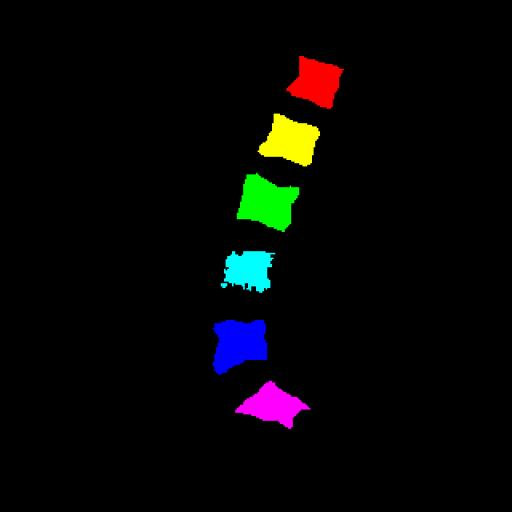L1: (287, 56, 343, 108)
L2: (258, 113, 320, 166)
L3: (237, 173, 299, 232)
L4: (221, 251, 275, 293)
L5: (213, 320, 267, 374)
S1: (235, 381, 310, 428)
